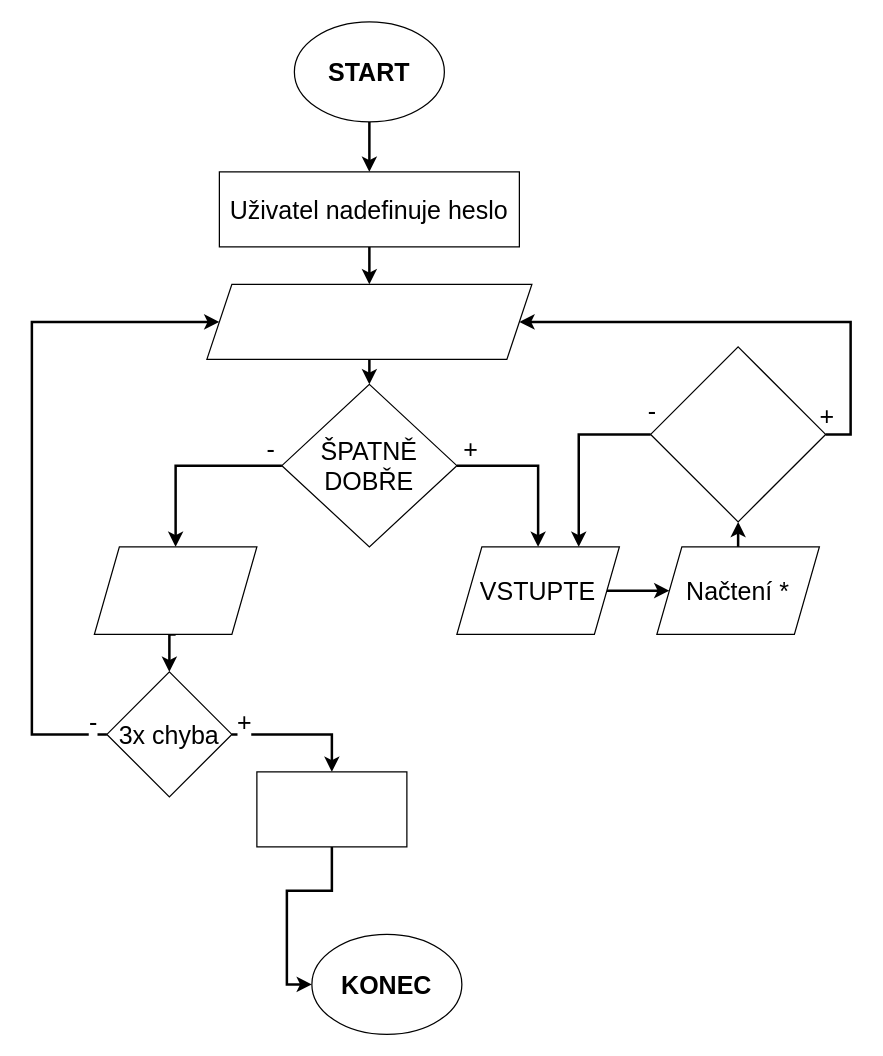
This 883x1056 diagram has some shape labels left out. Here are the shapes that lost their labels. From the top down, the centre of each, then its label:
At point 369,321: "Uživatel zadá heslo".
At point 737,434: "Načtení servis kódu".
At point 175,590: "CHYBA".
At point 331,809: "ALARM".
